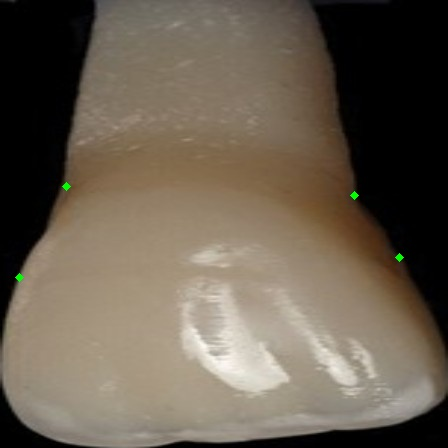coin_1: (66, 186, 86, 206)
coin_2: (19, 277, 39, 297)
coin_3: (354, 195, 374, 215)
coin_4: (399, 257, 419, 277)
